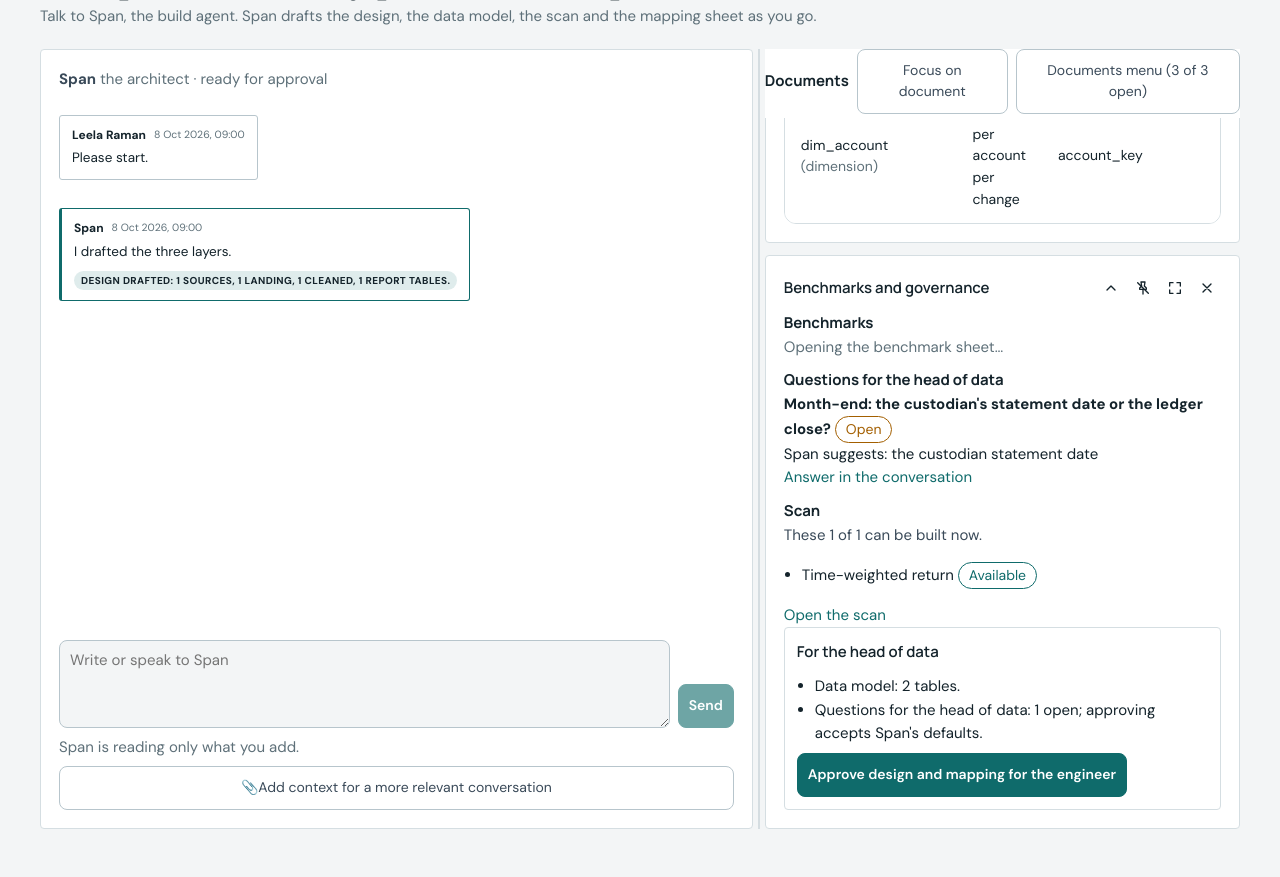
Test case: the conversation, the four tabs and the head of data's approval
(page scrolled)
Expected: the text "I drafted the three layers." is shown, [74,243,231,260]
Step 1. Click the button "Answer in the conversation" → (878, 478), box [784,466,972,490]
(page scrolled)
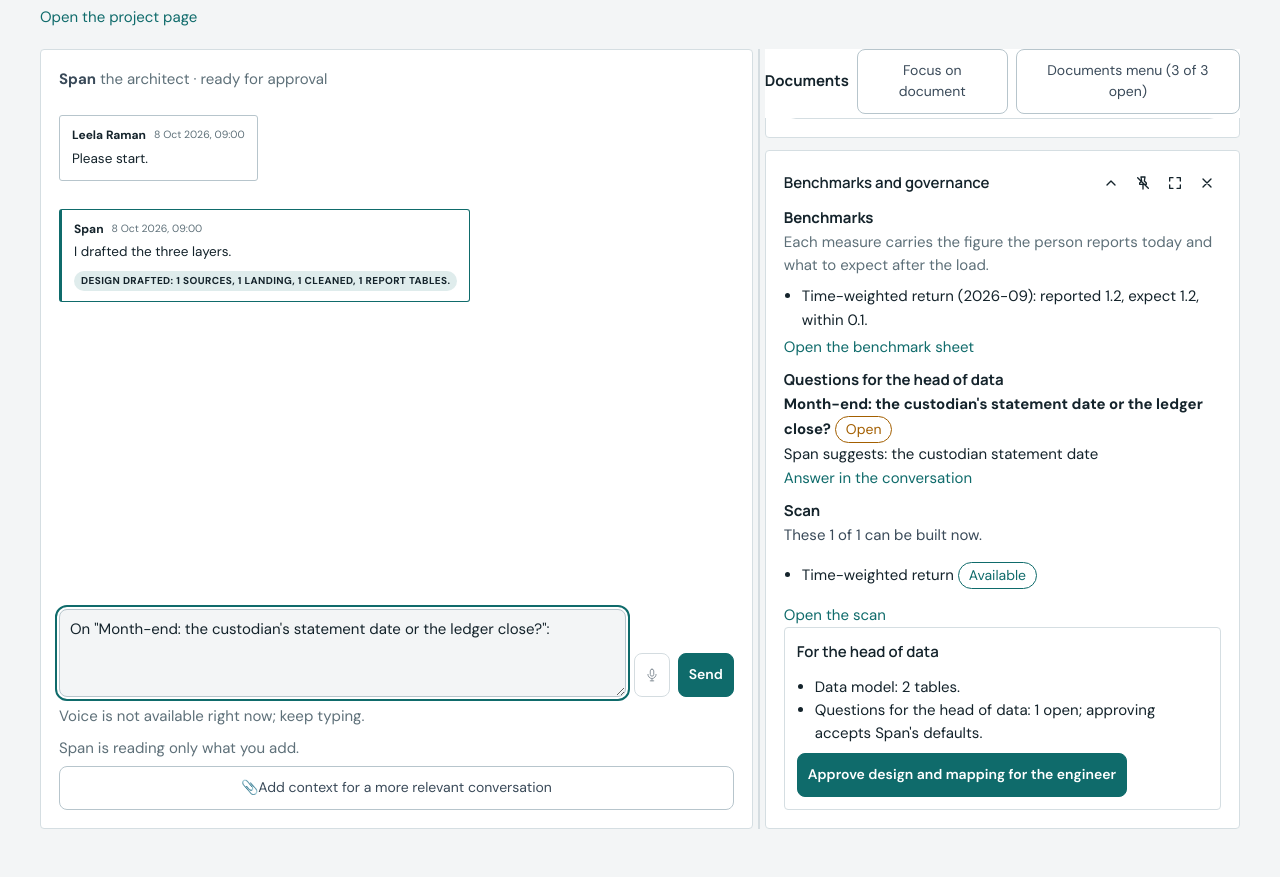
Expected: the text "These 1 of 1 can be built now." is shown, [784,525,982,545]
Expected: the list item "Time-weighted return (2026-09): reported 1.2, expect 1.2, within 0.1" is shown, [802,285,1221,332]
Step 2. Click the button "Approve design and mapping for the engineer" → (962, 775), box [797,753,1127,797]
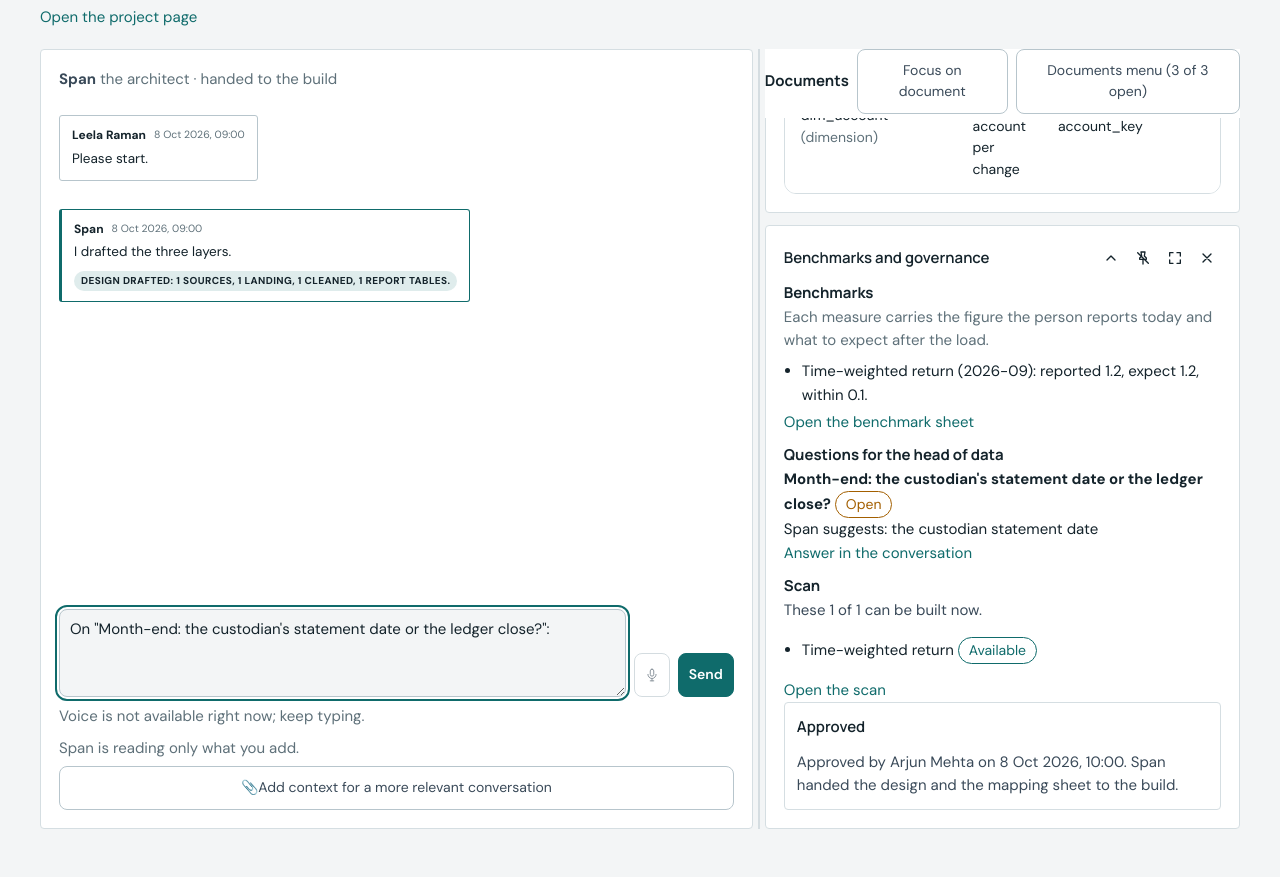
Expected: the text "Span handed the design and the mapping sheet to the build" is shown, [797,752,1178,795]
